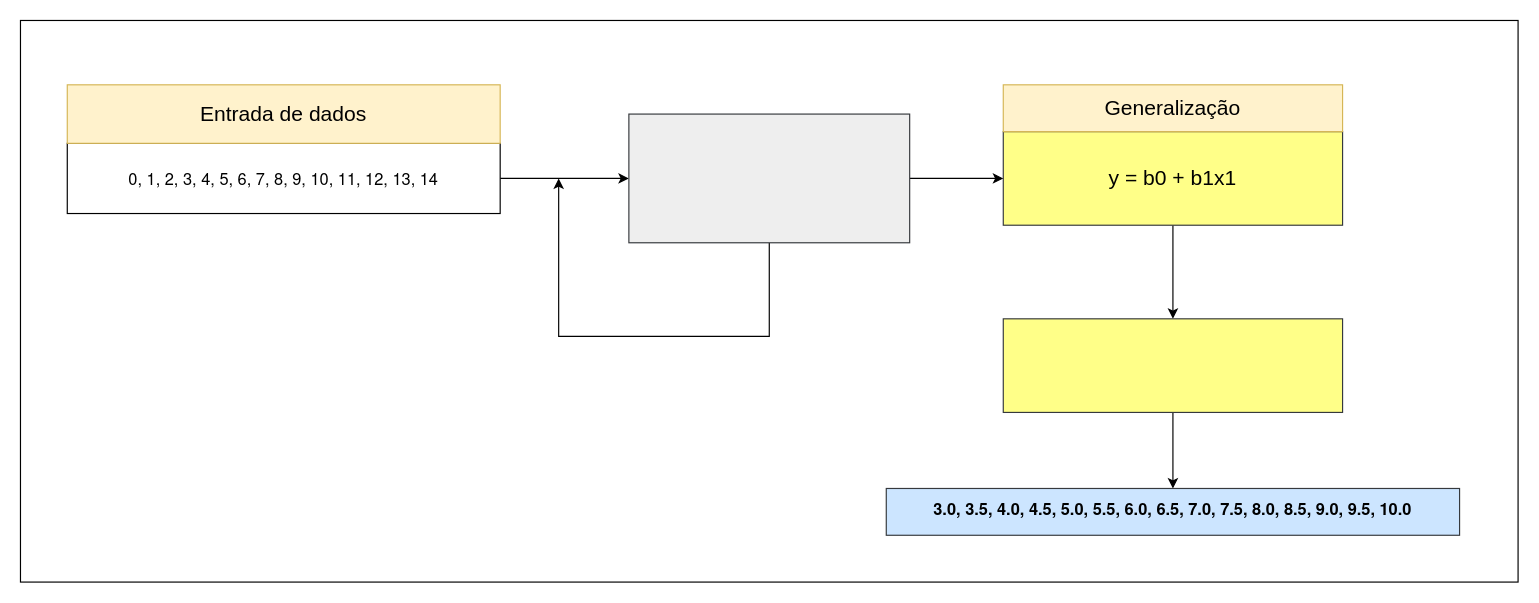
This 1539x603 diagram has some shape labels left out. Each missing label, with the box of its shape:
Previsões / Saída dos dados: (1002, 318, 1343, 412)
Treinamento do modelo: (628, 113, 910, 243)
